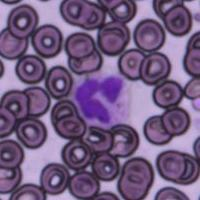N: (70, 70, 131, 130)
